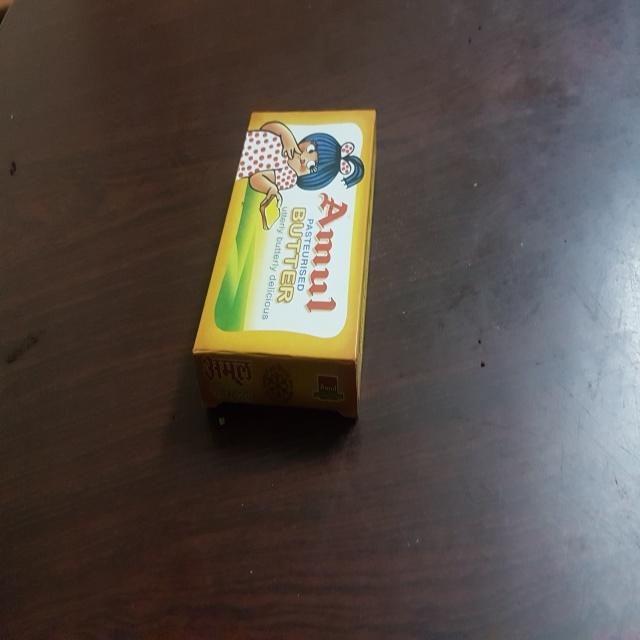butter: (183, 97, 384, 427)
